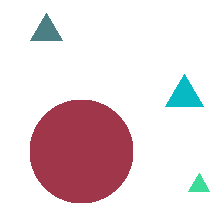circle: (30, 100, 132, 202)
triangle: (165, 74, 203, 106), (30, 13, 62, 40), (188, 173, 209, 191)
